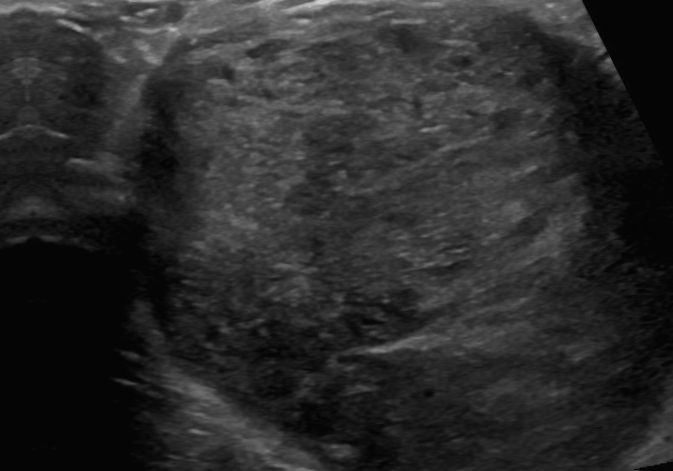Malignant: (150, 1, 565, 403)
